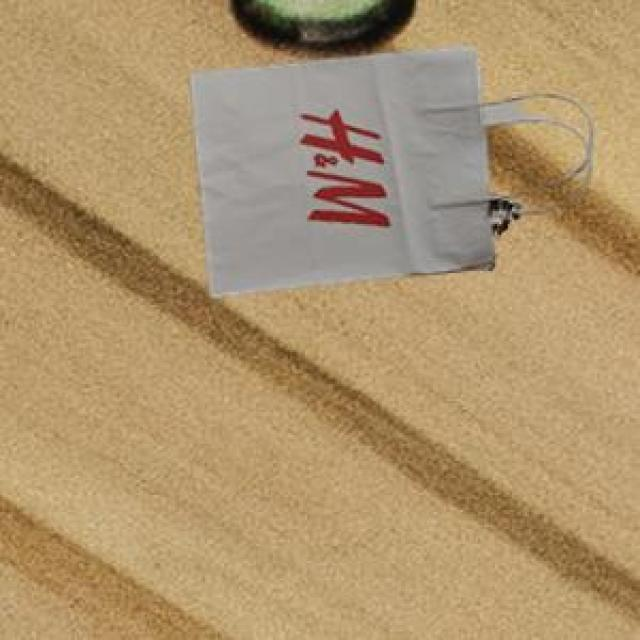paper: (186, 43, 589, 292)
